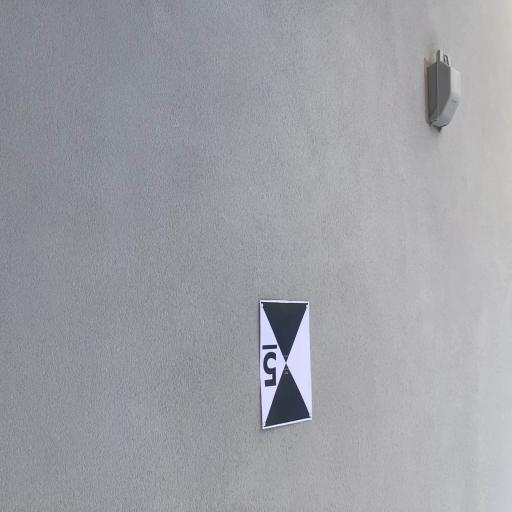target5: (260, 301, 312, 431)
